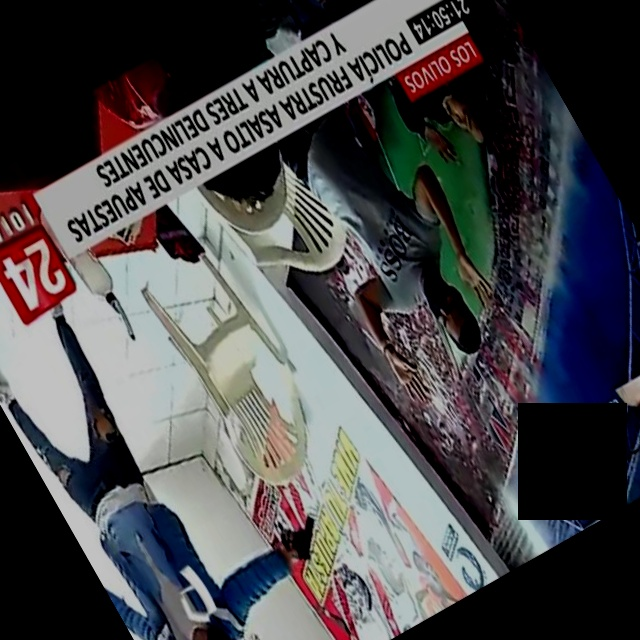gun: (265, 499, 343, 583)
